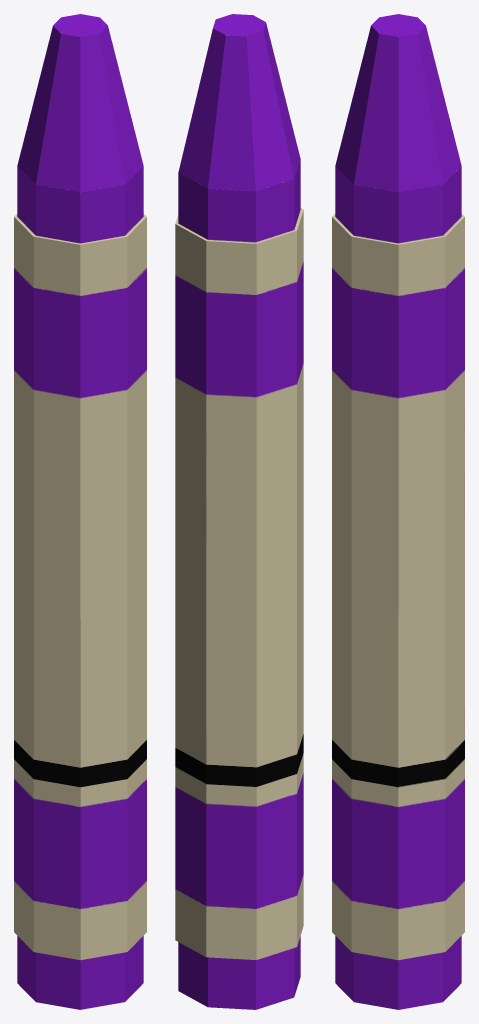
The model's file is CrayonPurple.fbx.
3 views of the same model, side by side, from view 1: azimuth 90°, elevation 25°; view 2: azimuth 150°, elevation 25°; view 3: azimuth 270°, elevation 25° (orthographic).
Parts seen in each view (by area): view 1: Bake.001; view 2: Bake.001; view 3: Bake.001.
Boxes of the visible parts, x1,y1,x2,y2 form: Bake.001: (14,14,146,1009); Bake.001: (175,14,303,1009); Bake.001: (332,14,464,1009).
Bounding box in the file's own units: 89.18 × 710 × 89.18.
